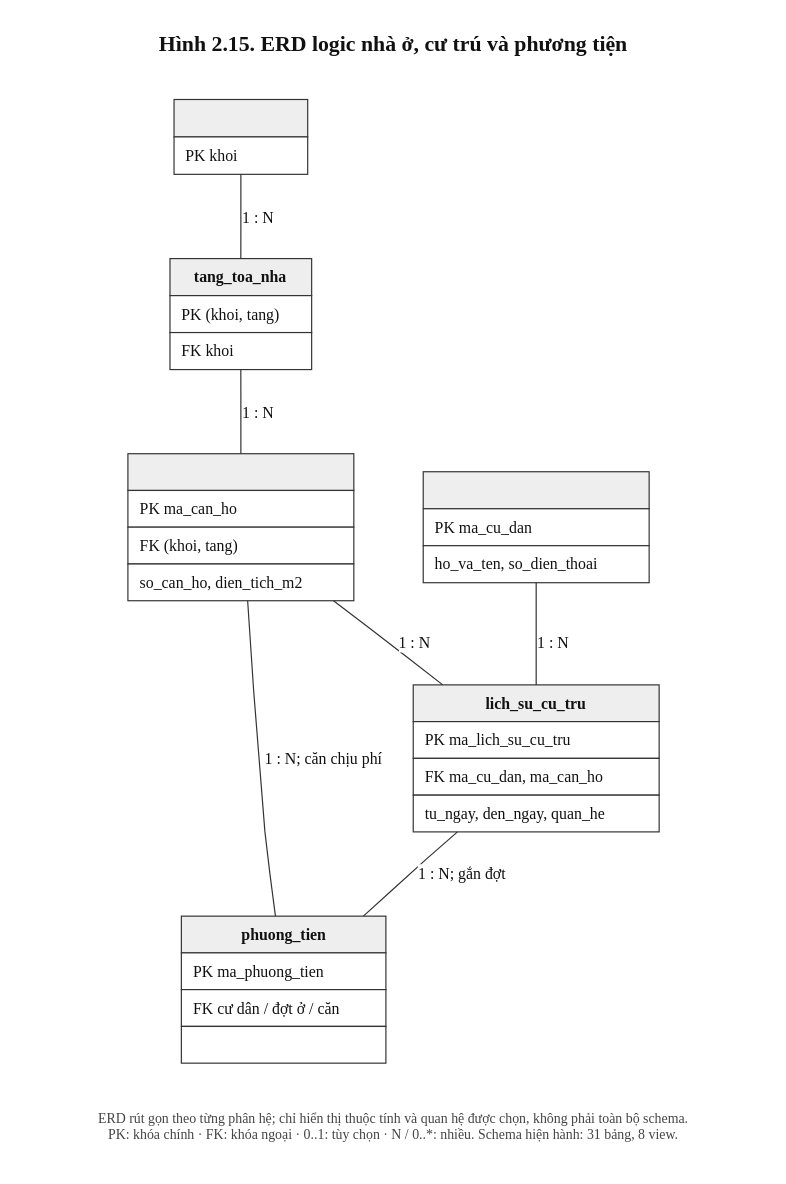
The diagram is 786 pixels wide and 1184 high, and some of its shapes have lost their labels. The centre of each missing label's shape, as x and y in pixels:
"can_ho" goes at point (240, 472).
"cu_dan" goes at point (535, 490).
"khoi_toa_nha" goes at point (240, 117).
"loai_xe, bien_so" goes at point (283, 1044).
